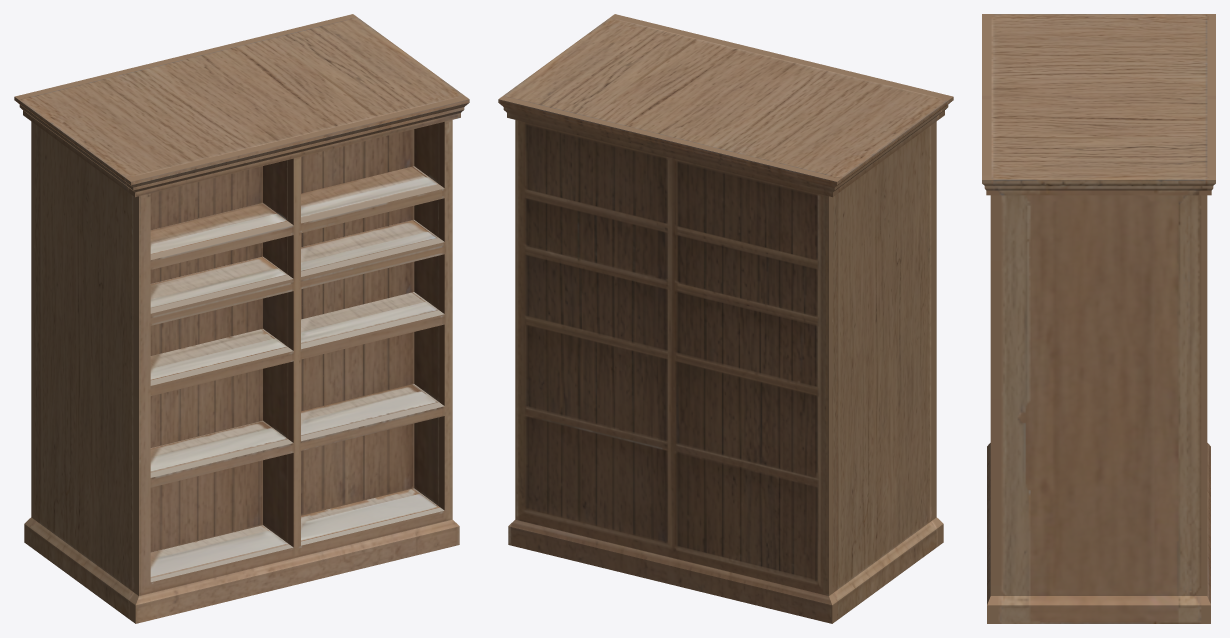
File: PantryShelf_02.fbx
3 views of the same model, side by side, from view 1: azimuth 30°, elevation 25°; view 2: azimuth 150°, elevation 25°; view 3: azimuth 270°, elevation 25° (orthographic).
Visible parts, largest first — view 1: PantryShelf_02_Low; view 2: PantryShelf_02_Low; view 3: PantryShelf_02_Low.
Boxes of the visible parts, x1,y1,x2,y2 form: PantryShelf_02_Low: [14, 14, 469, 623]; PantryShelf_02_Low: [498, 14, 953, 623]; PantryShelf_02_Low: [982, 14, 1215, 623].
Bounding box in the file's own units: 1.45 × 1.82 × 0.8625.
